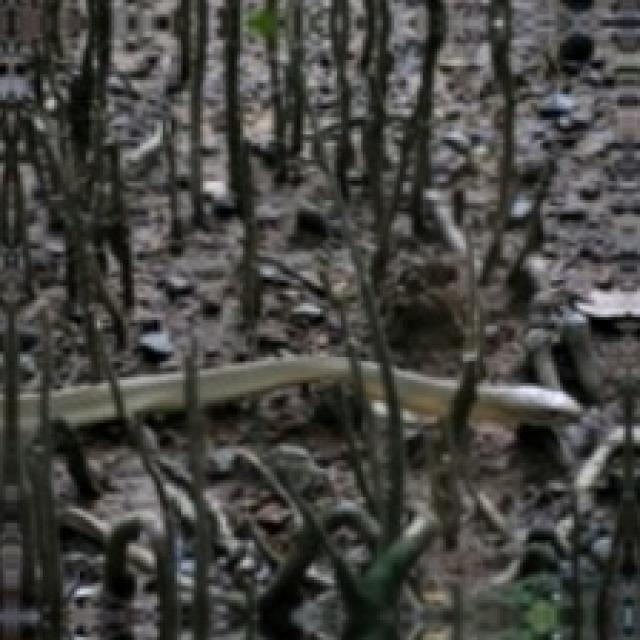king cobra: (0, 0, 637, 637), (266, 520, 374, 637), (57, 366, 180, 454), (60, 503, 169, 600)
